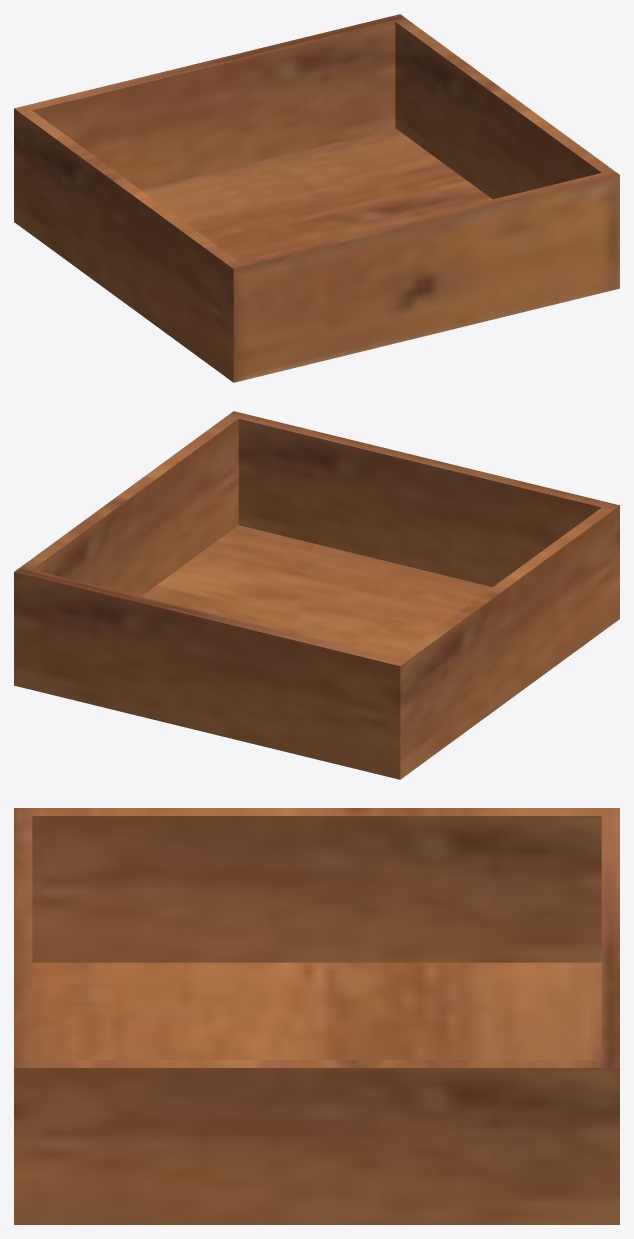
Rendered from Chest_drawers_05_005-col.glb.
3 renders of one model, top to bottom at view 1: azimuth 30°, elevation 25°; view 2: azimuth 150°, elevation 25°; view 3: azimuth 270°, elevation 25°, orthographic. The views are drawn at different scales.
Parts seen in each view (by area): view 1: Chest_drawers_05.005-col; view 2: Chest_drawers_05.005-col; view 3: Chest_drawers_05.005-col.
Boxes of the visible parts, x1=… form: Chest_drawers_05.005-col: x1=14, y1=14, x2=619, y2=382; Chest_drawers_05.005-col: x1=14, y1=411, x2=619, y2=779; Chest_drawers_05.005-col: x1=14, y1=808, x2=619, y2=1224.
Size of the model in its own units: 0.5526 by 0.1554 by 0.5444.
1 material, 1 textured.
